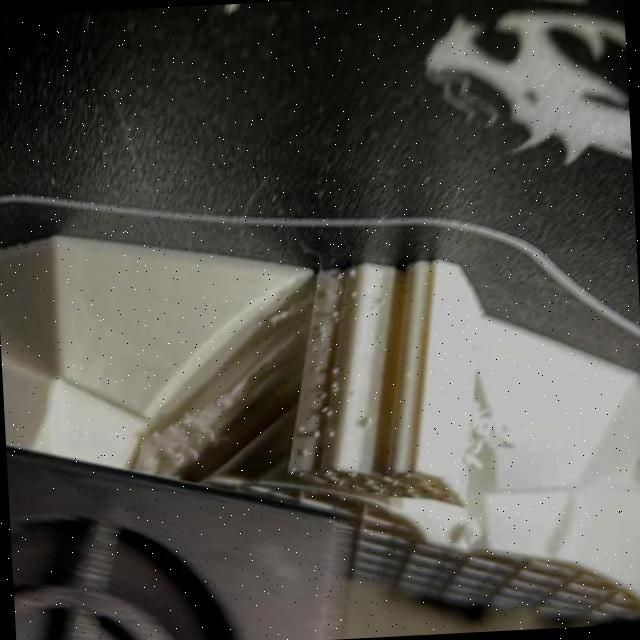blobs: (356, 412, 377, 430), (326, 306, 344, 322), (326, 381, 341, 398), (347, 263, 360, 282), (294, 422, 310, 437), (316, 324, 328, 344), (308, 426, 323, 441), (318, 404, 332, 419), (329, 363, 344, 377), (348, 285, 362, 300), (310, 361, 323, 376), (298, 446, 311, 459), (326, 427, 339, 440), (334, 270, 344, 281)
